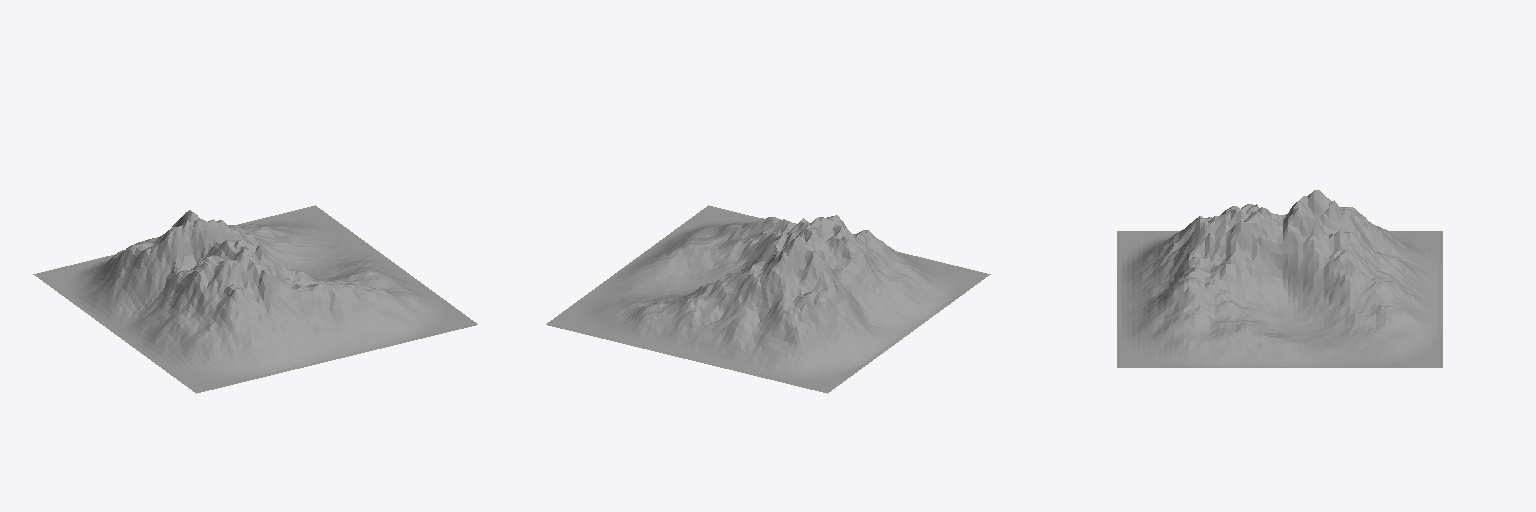
File: island_1.obj
3 views of the same model, side by side, from view 1: azimuth 30°, elevation 25°; view 2: azimuth 150°, elevation 25°; view 3: azimuth 270°, elevation 25° (orthographic).
Parts seen in each view (by area): view 1: Landscape; view 2: Landscape; view 3: Landscape.
Boxes of the visible parts, <box> form: Landscape: <box>33,205,477,393</box>; Landscape: <box>546,205,990,393</box>; Landscape: <box>1117,190,1442,367</box>.
Size of the model in its own units: 2 by 0.5898 by 2.